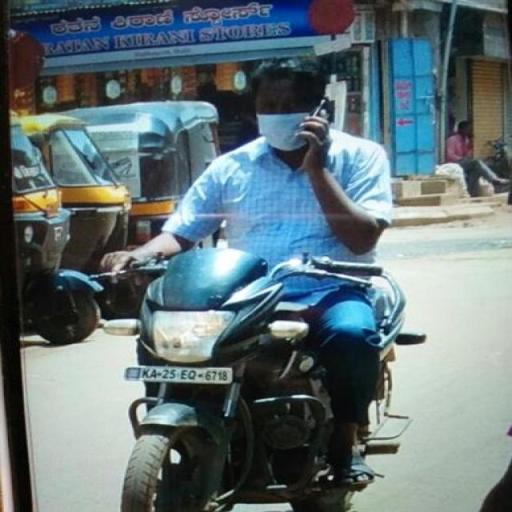using mobile: (294, 88, 352, 159)
